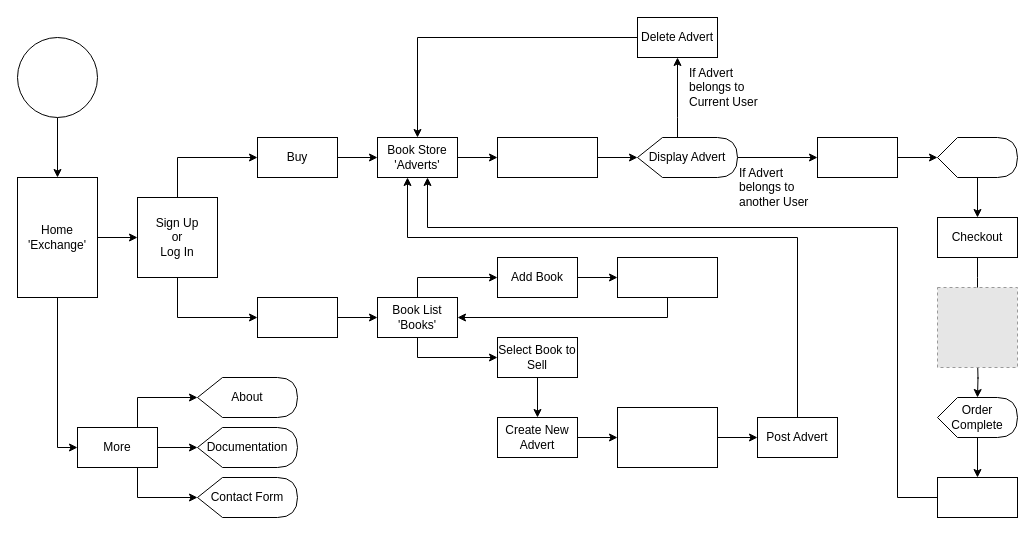
Some shapes in this 1035 by 535 pixel diagram are drawn without their labels. Grey dashed boxes stand in for pictures. Each missing label, with the box of its shape:
Add Title from Google Books: (616, 256, 718, 298)
Continue Shopping: (936, 476, 1018, 518)
Place Order to Buy Book: (816, 136, 898, 178)
Select Book Advert: (496, 136, 598, 178)
Sell: (256, 296, 338, 338)
Set Book Price, Condition & add an Image to Advert: (616, 406, 718, 468)
Start: (16, 36, 98, 118)
View Order: (936, 136, 1018, 178)
